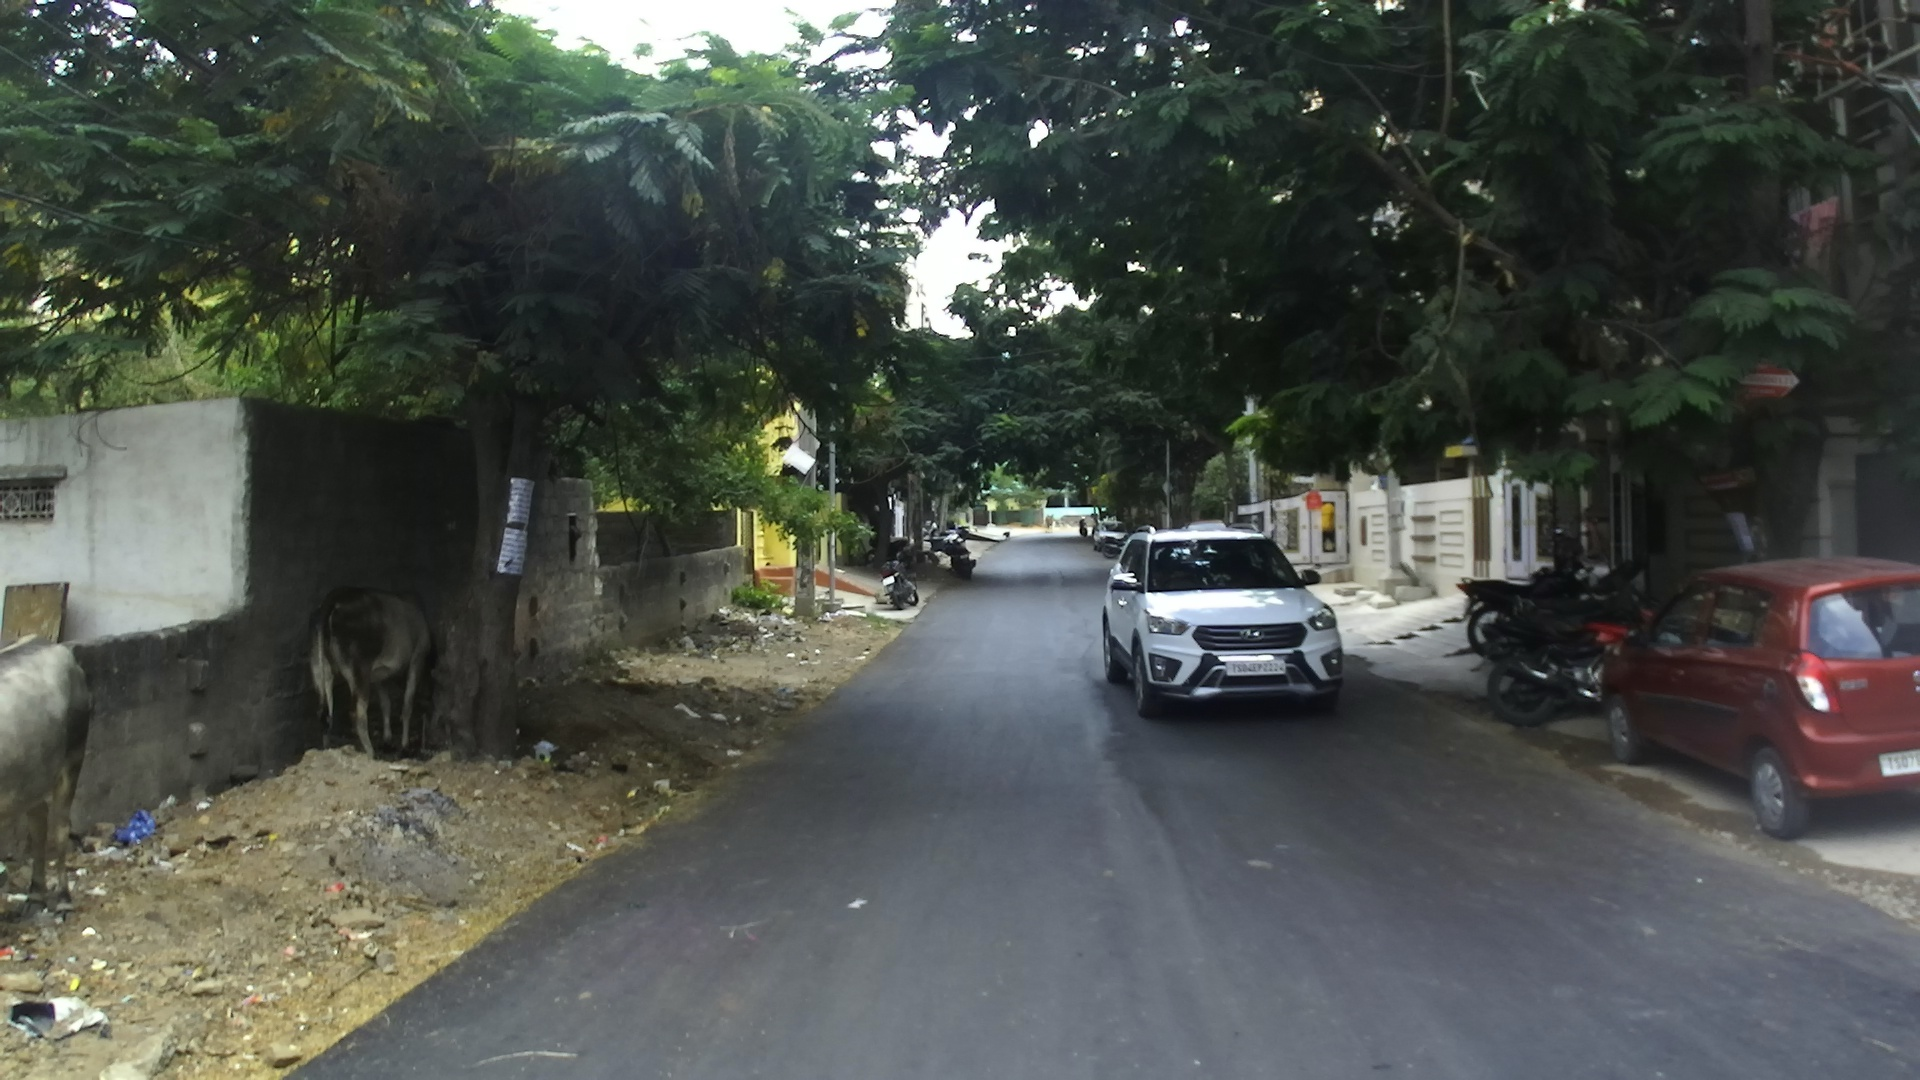vehicle: (1596, 555, 1919, 841), (1101, 525, 1344, 717), (1468, 559, 1650, 721), (928, 527, 973, 572)
